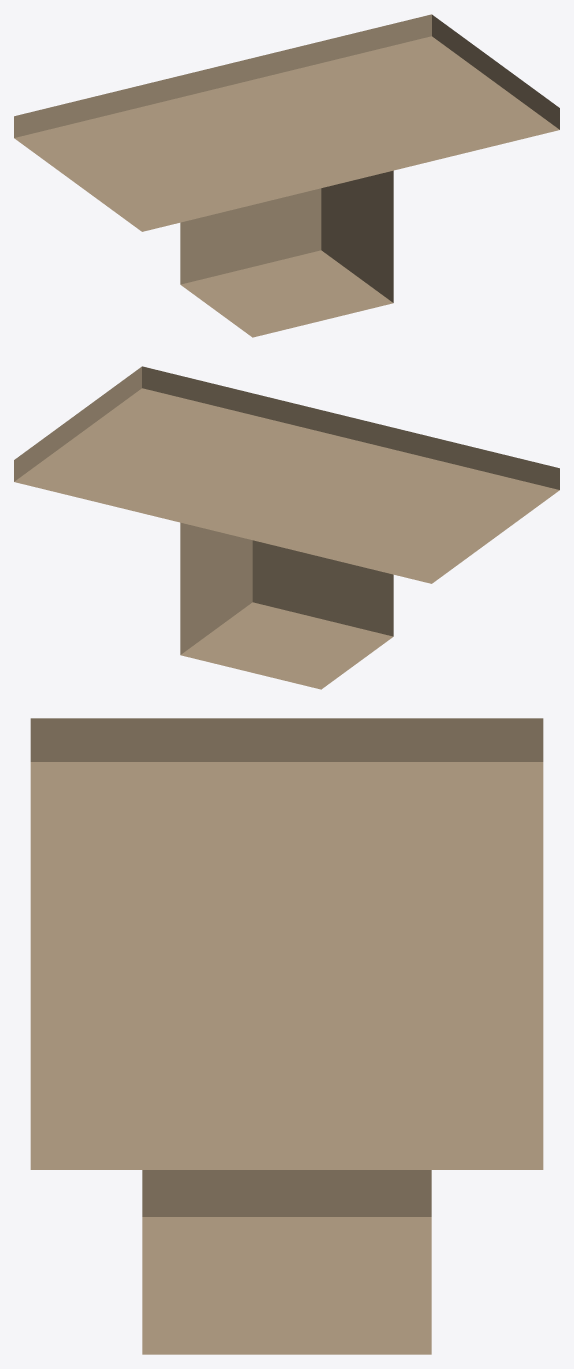
File: terrace-dining-preview.glb
3 views of the same model, one above another, from view 1: azimuth 30°, elevation 25°; view 2: azimuth 150°, elevation 25°; view 3: azimuth 270°, elevation 25° (orthographic). The views are drawn at different scales.
Visible parts, largest first — view 1: terrace-dining-set; view 2: terrace-dining-set; view 3: terrace-dining-set.
Part boxes in pixels (box(x1,y1,x2,y2)): terrace-dining-set: box(14, 14, 559, 337); terrace-dining-set: box(14, 366, 559, 689); terrace-dining-set: box(30, 718, 543, 1354).
Size of the model in its own units: 1.6 by 0.665 by 0.85.
